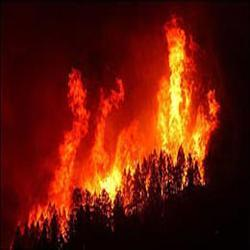fire: (167, 42, 204, 154), (90, 159, 129, 195)
